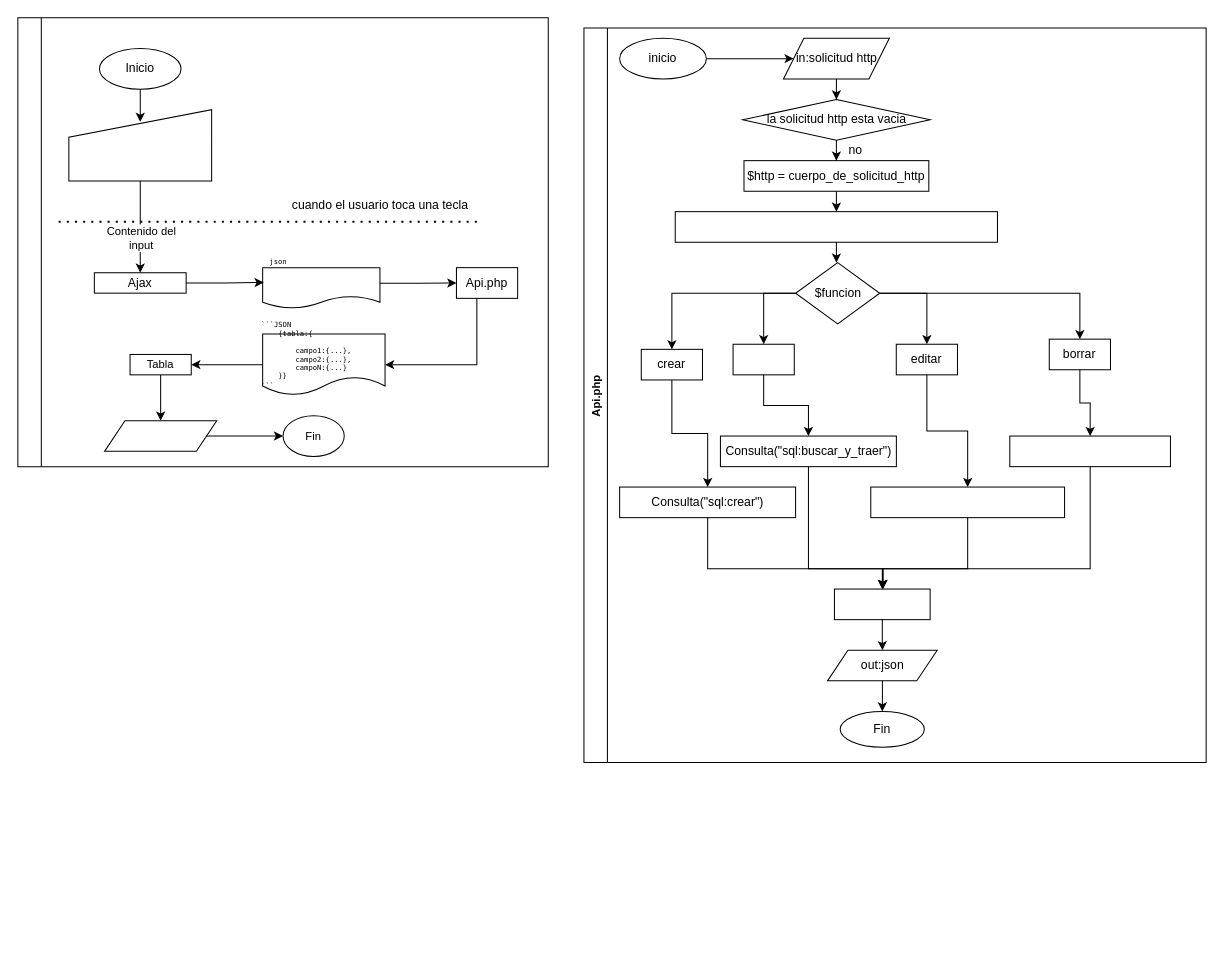
Some shapes in this 1224 by 977 pixel diagram are drawn without their labels. Here are the shapes that lost their labels. From the top down, the box of each, then its label:
(68, 109, 212, 181): Cont_Input = <texto_ingresado>
(17, 17, 548, 467): Index.php
(674, 211, 997, 242): $json = transformar_a_array_asociativo($http)
(262, 267, 380, 308): "accion" : "buscar" "valores : cont_Input
(732, 343, 794, 375): leer
(104, 420, 217, 451): Tabla de datos
(1009, 435, 1170, 467): consulta(sql:borrarElemento)
(870, 486, 1065, 518): consulta("sql:editarvalores")
(833, 588, 930, 620): Transformar a json
